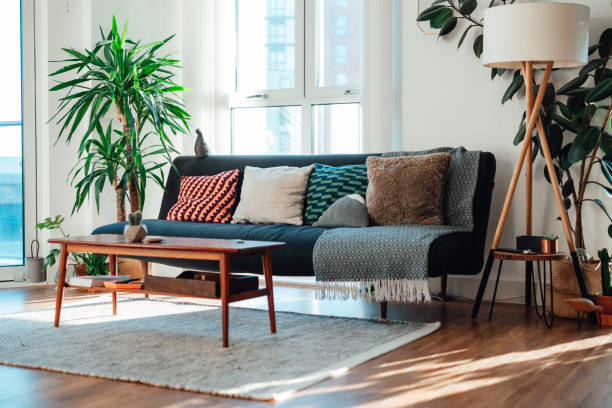floor lamp: (472, 0, 591, 325)
large plant: (48, 14, 188, 290)
side table: (490, 248, 566, 328)
sofa: (88, 144, 499, 320)
table: (47, 232, 286, 348)
